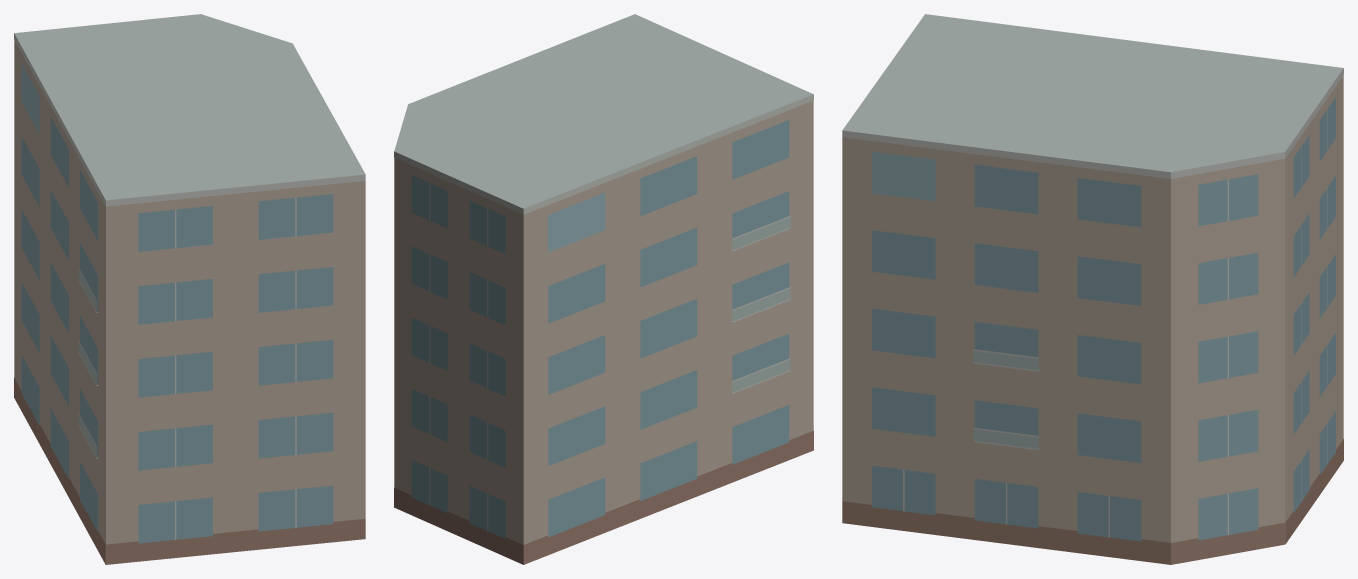
File: survey-upis-32870151.glb
3 renders of one model, left to right at view 1: azimuth 30°, elevation 25°; view 2: azimuth 150°, elevation 25°; view 3: azimuth 270°, elevation 25°, orthographic. The views are drawn at different scales.
Visible parts, largest first — view 1: survey-upis-32870151.tmp; view 2: survey-upis-32870151.tmp; view 3: survey-upis-32870151.tmp.
Part boxes in pixels (x1,y1,x2,y2): survey-upis-32870151.tmp: (14,14,365,564); survey-upis-32870151.tmp: (394,14,813,564); survey-upis-32870151.tmp: (842,14,1343,564).
Bounding box in the file's own units: 12.28 × 14.2 × 16.45.
